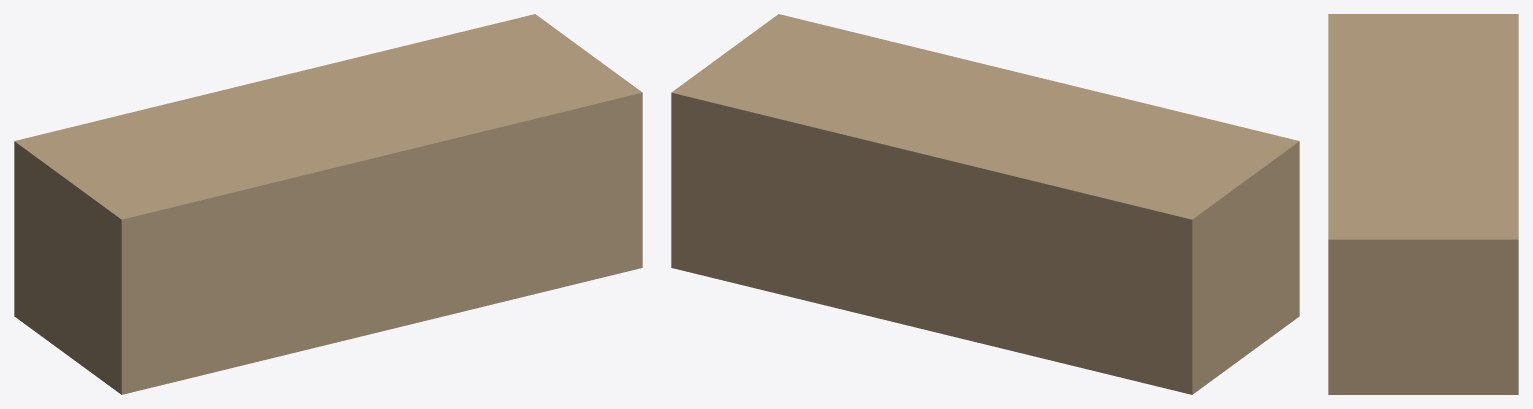
File: cereal_bar.glb
3 renders of one model, left to right at view 1: azimuth 30°, elevation 25°; view 2: azimuth 150°, elevation 25°; view 3: azimuth 270°, elevation 25°, orthographic. The views are drawn at different scales.
Visible parts, largest first — view 1: 00_package; view 2: 00_package; view 3: 00_package.
Part boxes in pixels (x1,y1,x2,y2): 00_package: (14, 14, 642, 394); 00_package: (671, 14, 1299, 394); 00_package: (1328, 14, 1518, 394).
Size of the model in its own units: 0.28 by 0.103 by 0.1.
